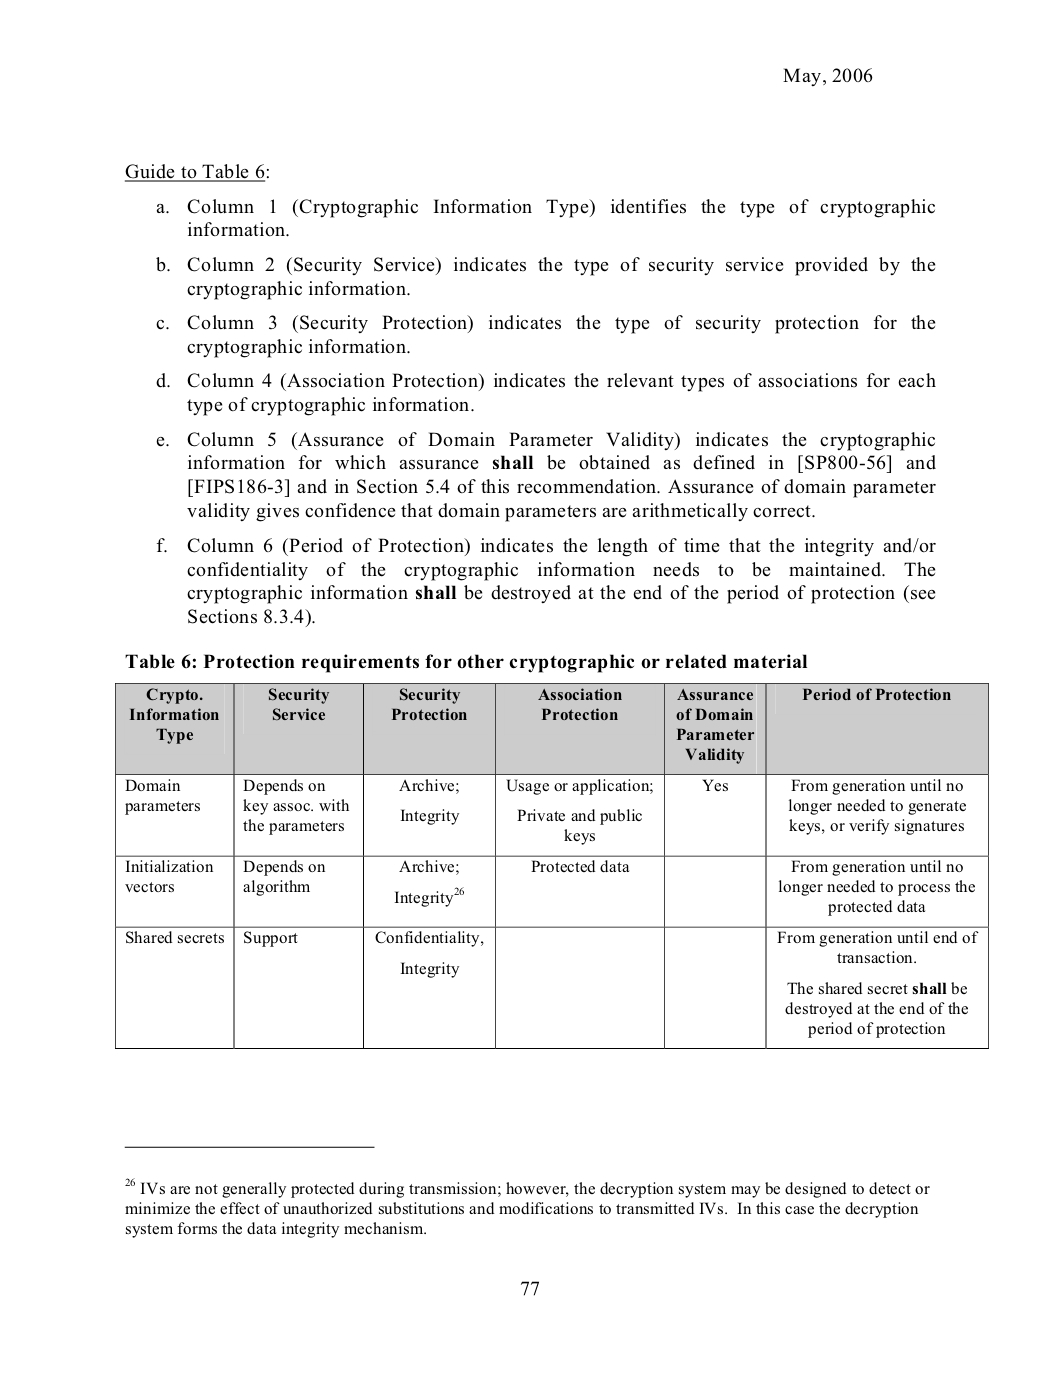Table: (115, 682, 987, 1049)
